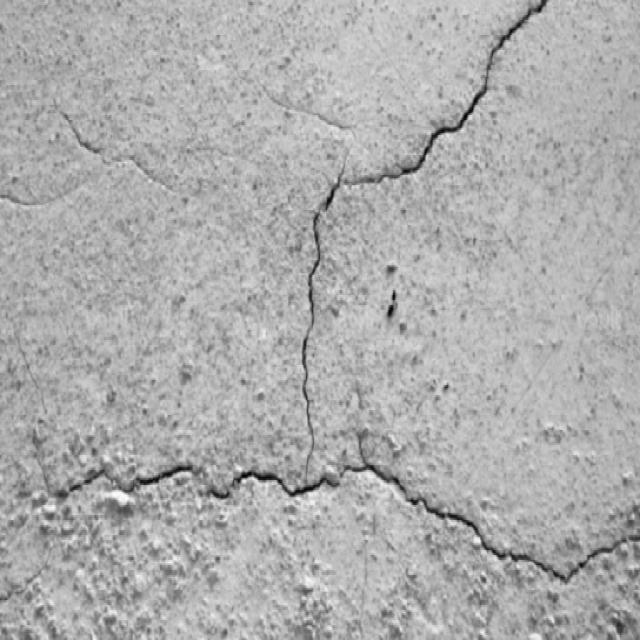SurfaceCrack: (244, 2, 614, 478)
